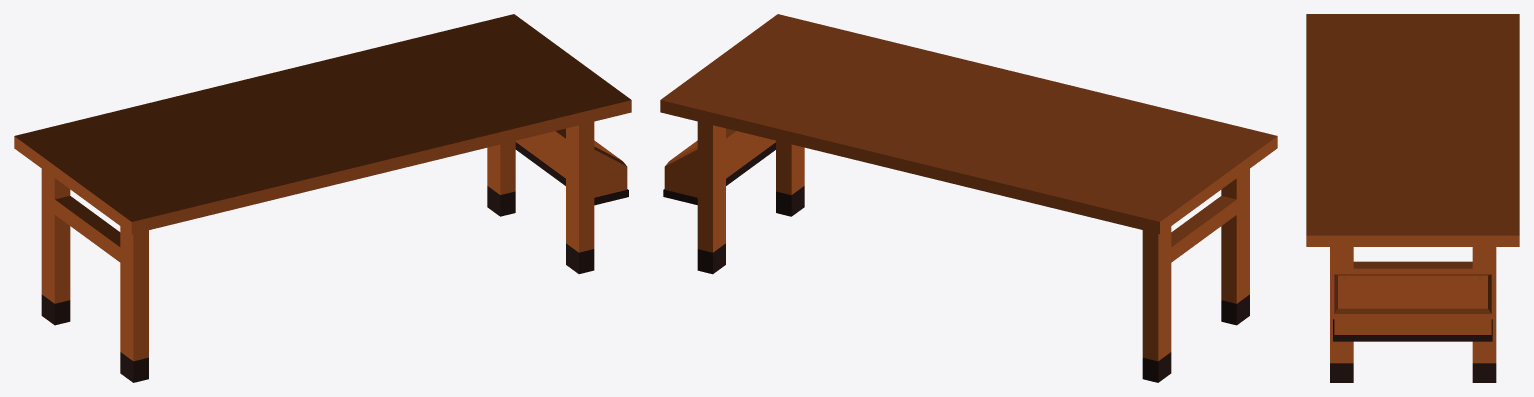
Rendered from Desk 6.fbx.
3 views of the same model, side by side, from view 1: azimuth 30°, elevation 25°; view 2: azimuth 150°, elevation 25°; view 3: azimuth 270°, elevation 25° (orthographic). The views are drawn at different scales.
Parts seen in each view (by area): view 1: Node 0; view 2: Node 0; view 3: Node 0.
Part boxes in pixels (x1,y1,x2,y2): Node 0: (14,14,631,382); Node 0: (660,14,1277,382); Node 0: (1306,14,1519,382).
Size of the model in its own units: 1.04 by 0.8527 by 2.62.
